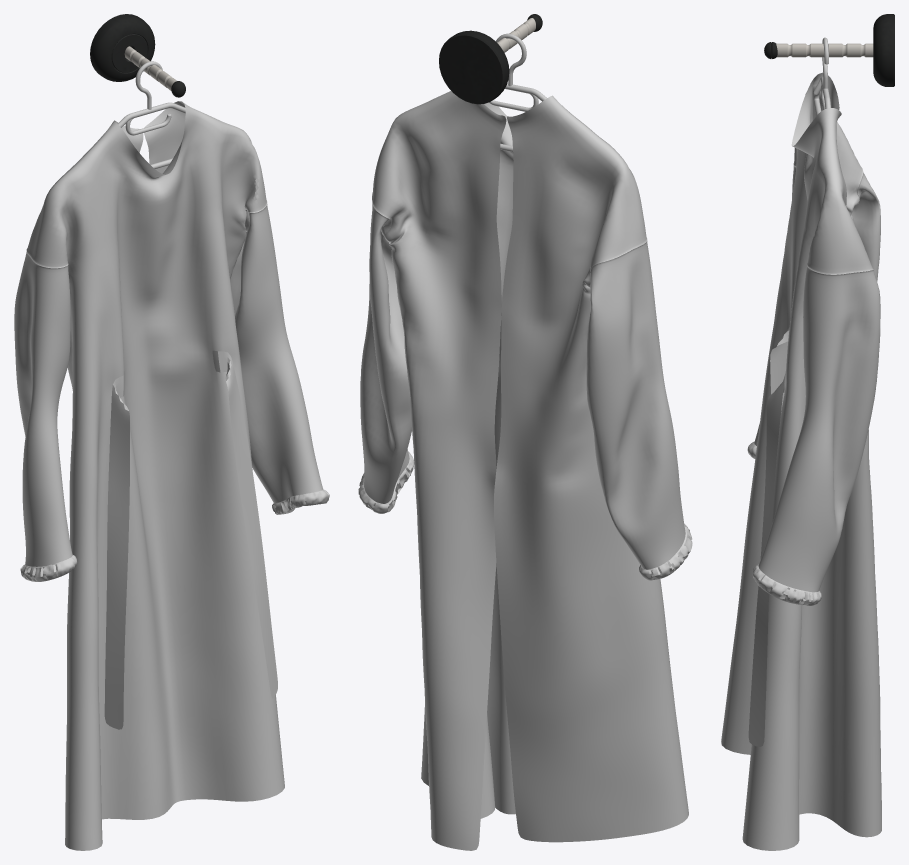
The model's file is hangedClothes.fbx.
3 views of the same model, side by side, from view 1: azimuth 30°, elevation 25°; view 2: azimuth 150°, elevation 25°; view 3: azimuth 270°, elevation 25° (orthographic). The views are drawn at different scales.
Parts seen in each view (by area): view 1: KB3D_ECE_BldgIntMorgue_A_DoctorGownB; view 2: KB3D_ECE_BldgIntMorgue_A_DoctorGownB; view 3: KB3D_ECE_BldgIntMorgue_A_DoctorGownB.
Part boxes in pixels (<box>): KB3D_ECE_BldgIntMorgue_A_DoctorGownB: <box>14,14,329,850</box>; KB3D_ECE_BldgIntMorgue_A_DoctorGownB: <box>358,14,692,850</box>; KB3D_ECE_BldgIntMorgue_A_DoctorGownB: <box>721,14,894,850</box>.
Bounding box in the file's own units: 61.2 × 151 × 29.78.
